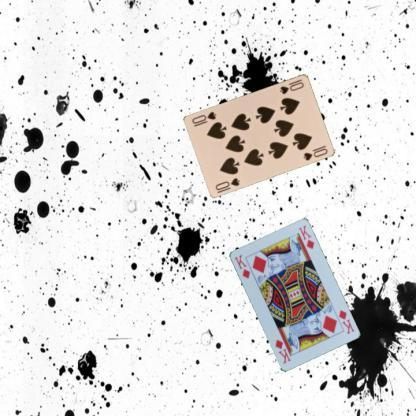10s: (277, 76, 304, 96), (212, 175, 242, 191)
Kd: (232, 252, 252, 280), (336, 307, 356, 335)
